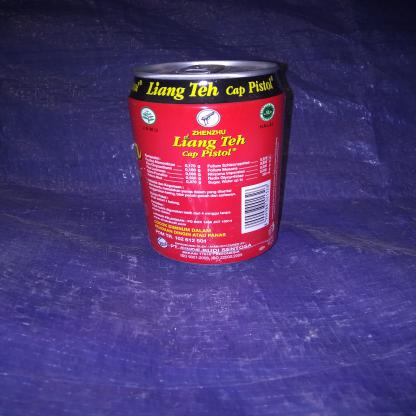bottle: (124, 56, 293, 268)
